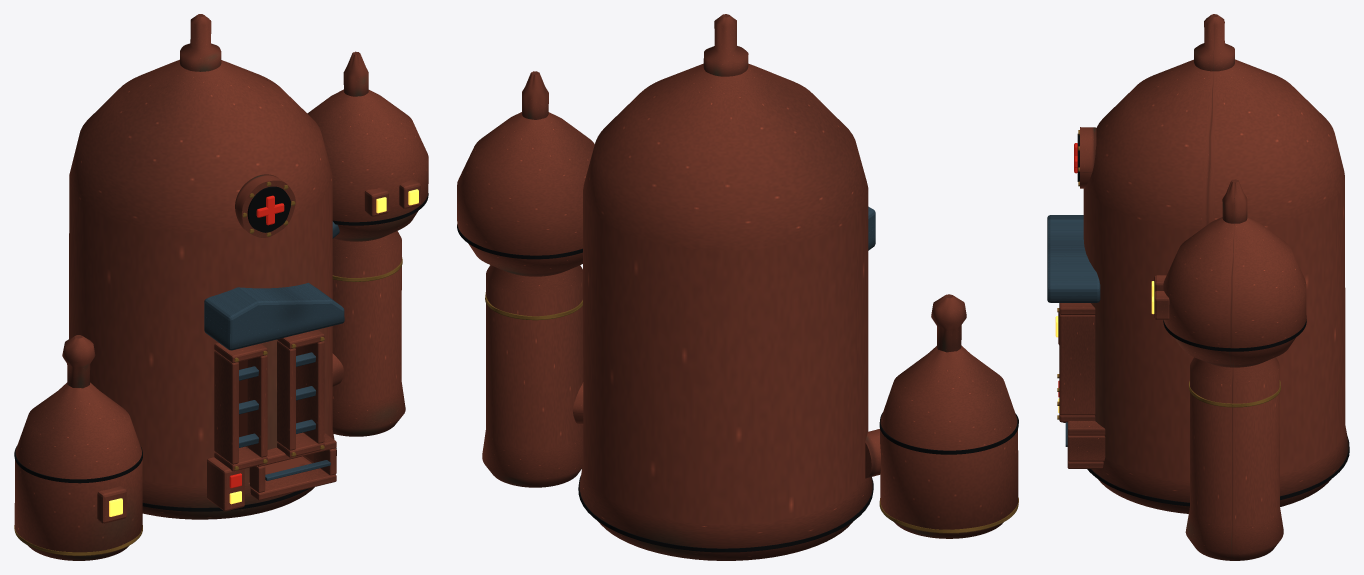
3 views of the same model, side by side, from view 1: azimuth 30°, elevation 25°; view 2: azimuth 150°, elevation 25°; view 3: azimuth 270°, elevation 25° (orthographic). The views are drawn at different scales.
Parts seen in each view (by area): view 1: AC04 central vessel, AC04 short left vessel, AC04 consolidated coral fittings, AC04 right neck, AC04 right bulb, AC04 steel connector hood, AC04 main finial, AC04 port casting, AC04 short finial, AC04 port dark well, AC04 right finial, AC04 main lower seam (+2 smaller); view 2: AC04 central vessel, AC04 short left vessel, AC04 right neck, AC04 right bulb, AC04 main finial, AC04 short finial, AC04 main lower seam, AC04 right finial, AC04 left dome seam, AC04 low left connection; view 3: AC04 central vessel, AC04 right neck, AC04 right bulb, AC04 consolidated coral fittings, AC04 steel connector hood, AC04 main finial, AC04 right finial, AC04 port casting, AC04 main lower seam, AC04 right bulb seam, AC04 right neck collar.
Boxes of the visible parts, x1,y1,x2,y2 form: AC04 central vessel: [69, 59, 334, 519]; AC04 short left vessel: [14, 382, 142, 560]; AC04 consolidated coral fittings: [97, 179, 420, 523]; AC04 right neck: [332, 231, 405, 436]; AC04 right bulb: [307, 89, 428, 241]; AC04 steel connector hood: [204, 282, 344, 350]; AC04 main finial: [180, 14, 221, 71]; AC04 port casting: [235, 174, 295, 237]; AC04 short finial: [62, 335, 95, 388]; AC04 port dark well: [247, 186, 290, 232]; AC04 right finial: [343, 51, 368, 96]; AC04 main lower seam: [142, 448, 336, 511]; AC04 central vessel: [579, 63, 872, 560]; AC04 short left vessel: [880, 345, 1018, 538]; AC04 right neck: [482, 265, 583, 487]; AC04 right bulb: [457, 112, 594, 276]; AC04 main finial: [703, 14, 748, 76]; AC04 short finial: [931, 294, 966, 352]; AC04 main lower seam: [578, 476, 873, 552]; AC04 right finial: [522, 71, 548, 119]; AC04 left dome seam: [879, 412, 1018, 454]; AC04 low left connection: [865, 429, 880, 478]; AC04 central vessel: [1083, 59, 1348, 513]; AC04 right neck: [1185, 357, 1283, 560]; AC04 right bulb: [1163, 217, 1306, 367]; AC04 consolidated coral fittings: [1058, 275, 1169, 468]; AC04 steel connector hood: [1047, 215, 1100, 302]; AC04 main finial: [1194, 14, 1234, 71]; AC04 right finial: [1222, 179, 1247, 223]; AC04 port casting: [1080, 127, 1096, 188]; AC04 main lower seam: [1087, 436, 1349, 506]; AC04 right bulb seam: [1163, 319, 1306, 351]; AC04 right neck collar: [1189, 380, 1280, 407].
Size of the model in its own units: 2.51 by 2.42 by 1.48.
6 materials, 4 textured.
